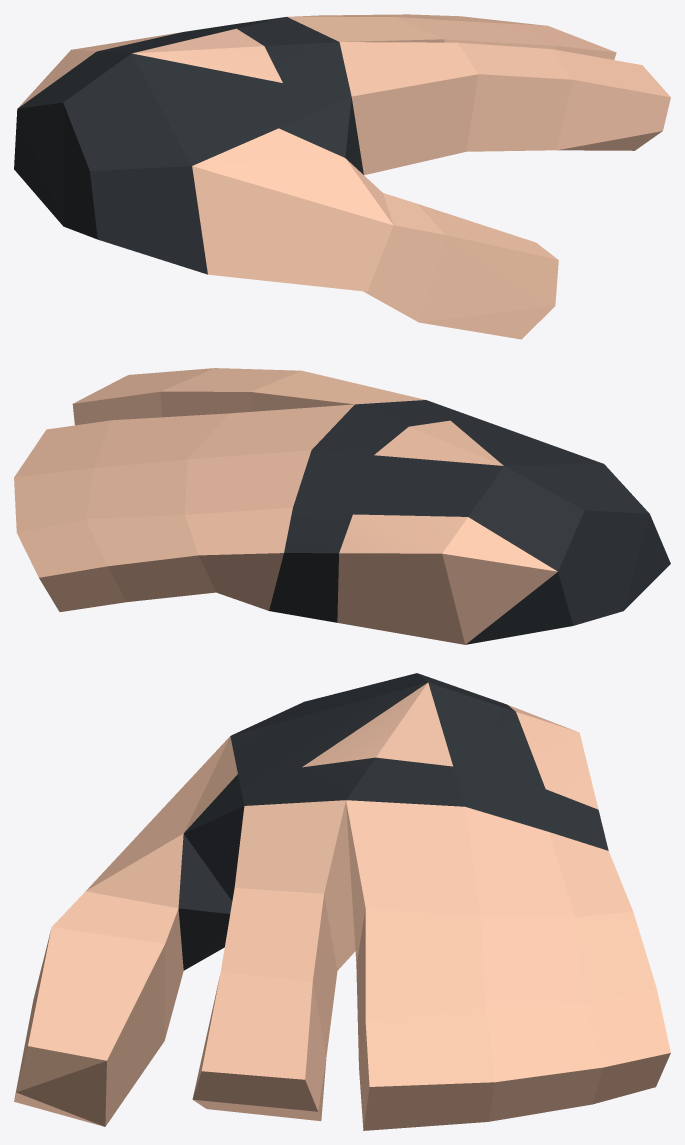
Rendered from Chr_HandLeft_Male_10_Static.fbx.
3 renders of one model, top to bottom at view 1: azimuth 30°, elevation 25°; view 2: azimuth 150°, elevation 25°; view 3: azimuth 270°, elevation 25°, orthographic. The views are drawn at different scales.
Visible parts, largest first — view 1: Chr_HandLeft_Male_10_Static; view 2: Chr_HandLeft_Male_10_Static; view 3: Chr_HandLeft_Male_10_Static.
Boxes of the visible parts, <box> form: Chr_HandLeft_Male_10_Static: <box>14,14,670,339</box>; Chr_HandLeft_Male_10_Static: <box>14,368,670,644</box>; Chr_HandLeft_Male_10_Static: <box>14,673,670,1130</box>.
Size of the model in its own units: 0.2335 by 0.0952 by 0.188.
